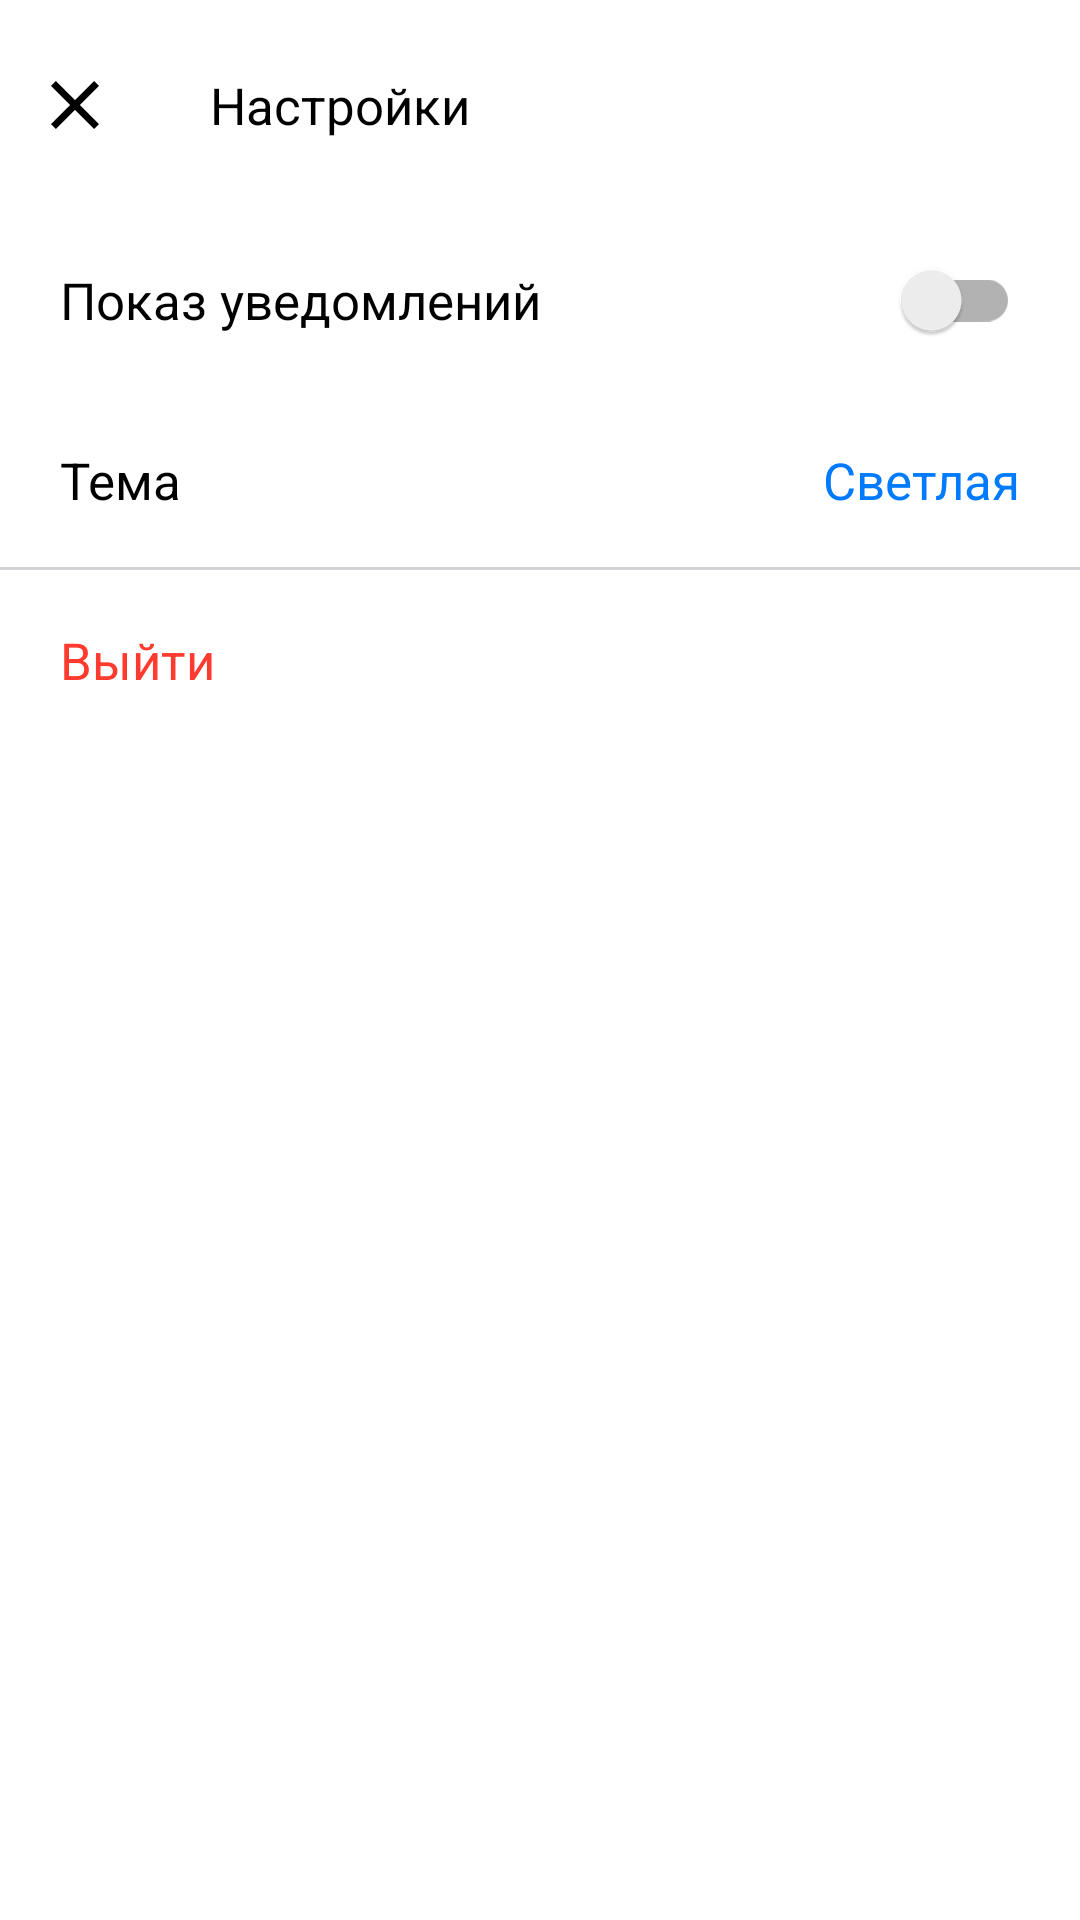

Point at icon controls on the screen. Image size 1080 × 1920, points as [x,y].
cancel inon: [75,105]
